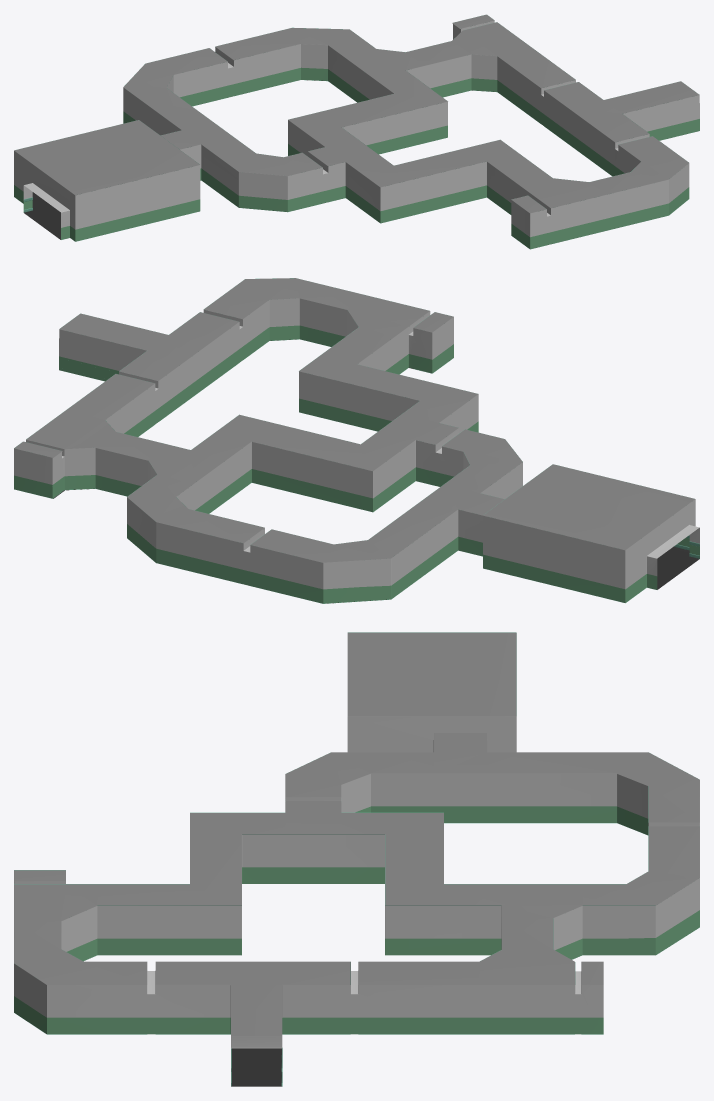
Rendered from hopital_salle_ope.fbx.
3 renders of one model, top to bottom at view 1: azimuth 30°, elevation 25°; view 2: azimuth 150°, elevation 25°; view 3: azimuth 270°, elevation 25°, orthographic. The views are drawn at different scales.
Visible parts, largest first — view 1: murs_salle_ope, plafond_salle_ope, sol_salle_ope; view 2: murs_salle_ope, plafond_salle_ope, sol_salle_ope; view 3: murs_salle_ope, plafond_salle_ope, sol_salle_ope.
Boxes of the visible parts, box(x1,y1,x2,y2) form: murs_salle_ope: box(14, 15, 699, 249); plafond_salle_ope: box(14, 14, 699, 213); sol_salle_ope: box(24, 80, 493, 239); murs_salle_ope: box(14, 278, 699, 603); plafond_salle_ope: box(14, 278, 695, 562); sol_salle_ope: box(53, 339, 699, 603); murs_salle_ope: box(14, 632, 699, 1086); plafond_salle_ope: box(14, 632, 699, 1036); sol_salle_ope: box(231, 1048, 281, 1086).
Bounding box in the file's own units: 63.88 × 4.8 × 46.73.
